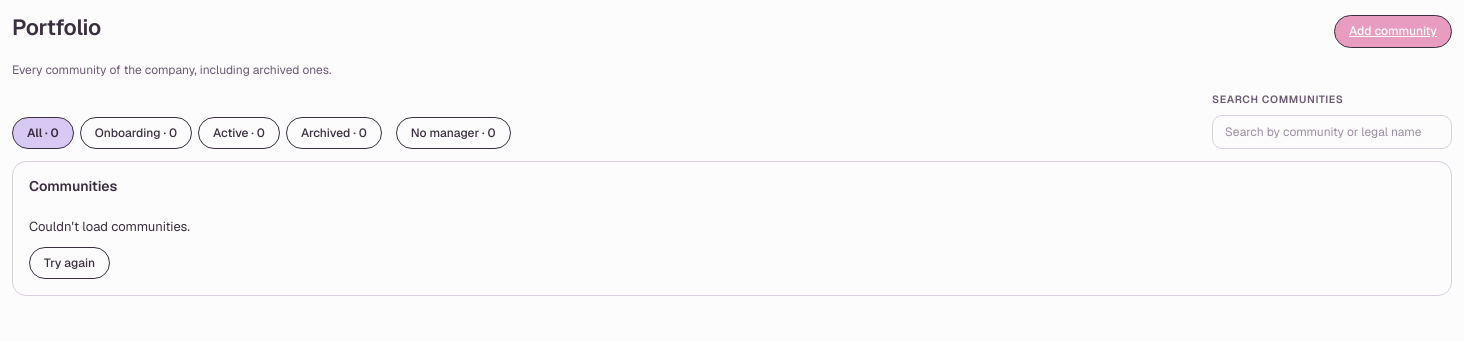
Test: PortfolioComponent (030 T073, minimal) › says when the list could not load, and tries again
This screenshot has width=1464, height=341.
Expected: the text "Couldn't load communities." is shown, [29,218,190,237]
Click the button "Try again" at [70, 263], box [29,247,110,279]
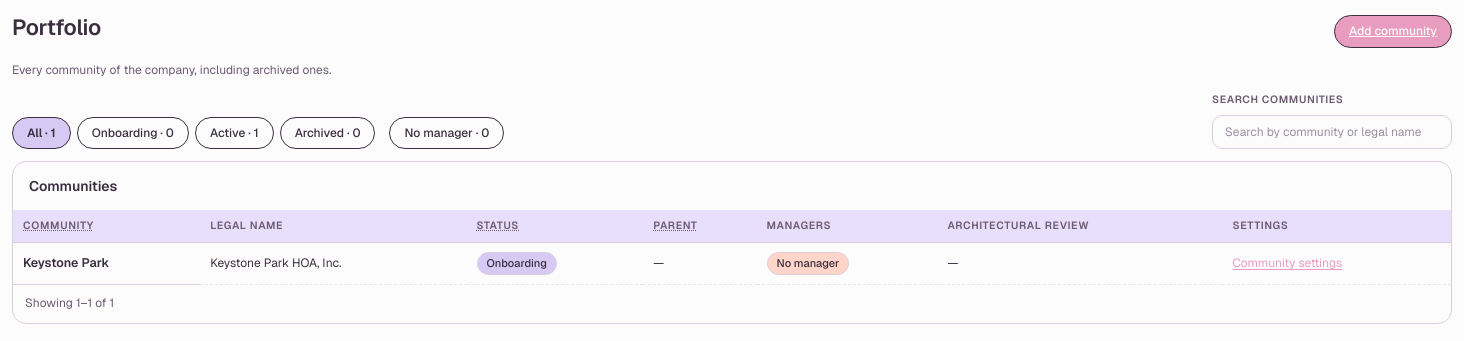
Result: the table named "Communities" is shown at [13,210,1451,286]
